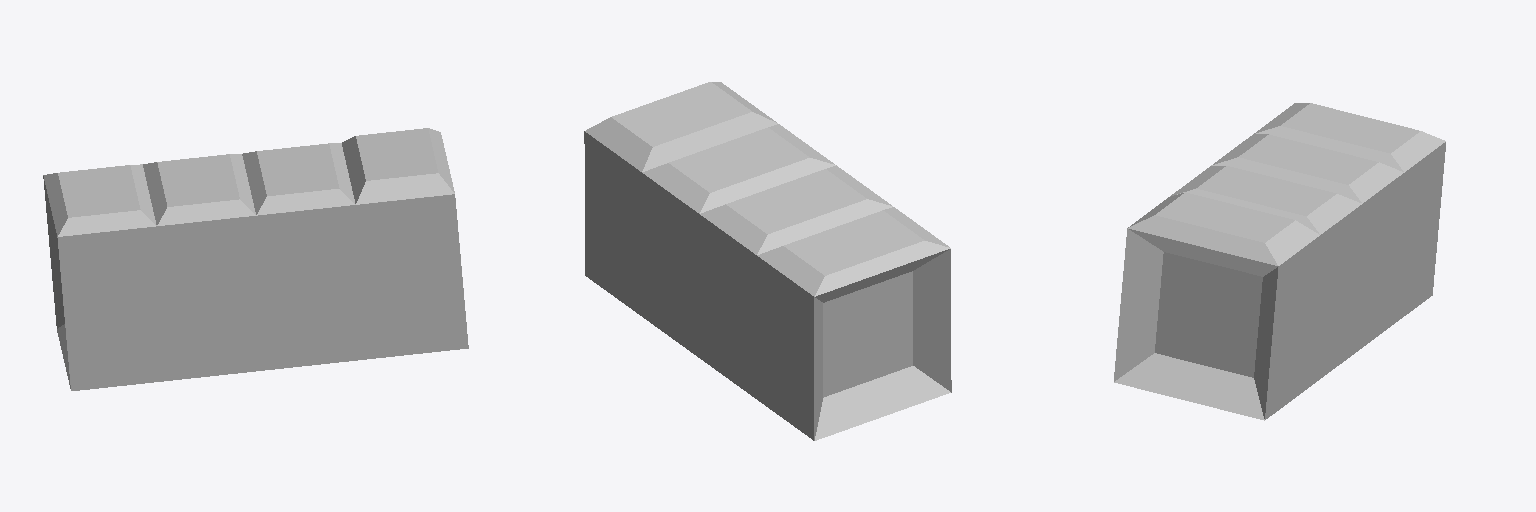
File: rack2.obj
The picture shows the model from 3 angles: view 1: azimuth 30°, elevation 25°; view 2: azimuth 150°, elevation 25°; view 3: azimuth 270°, elevation 25°; orthographic projection.
Bounding box in the file's own units: 0.8698 × 0.4326 × 0.6566.